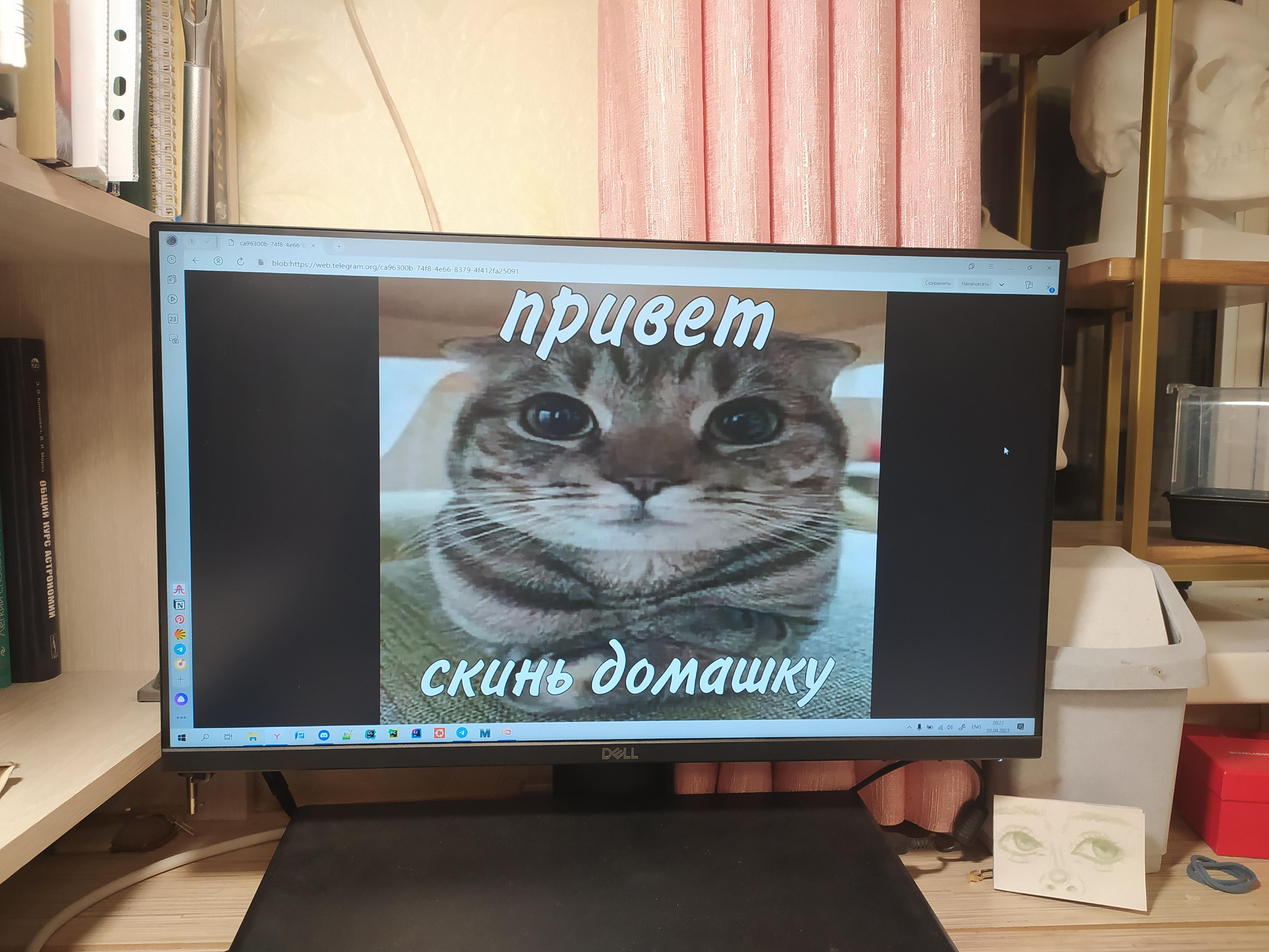monitor: (147, 220, 1071, 776)
